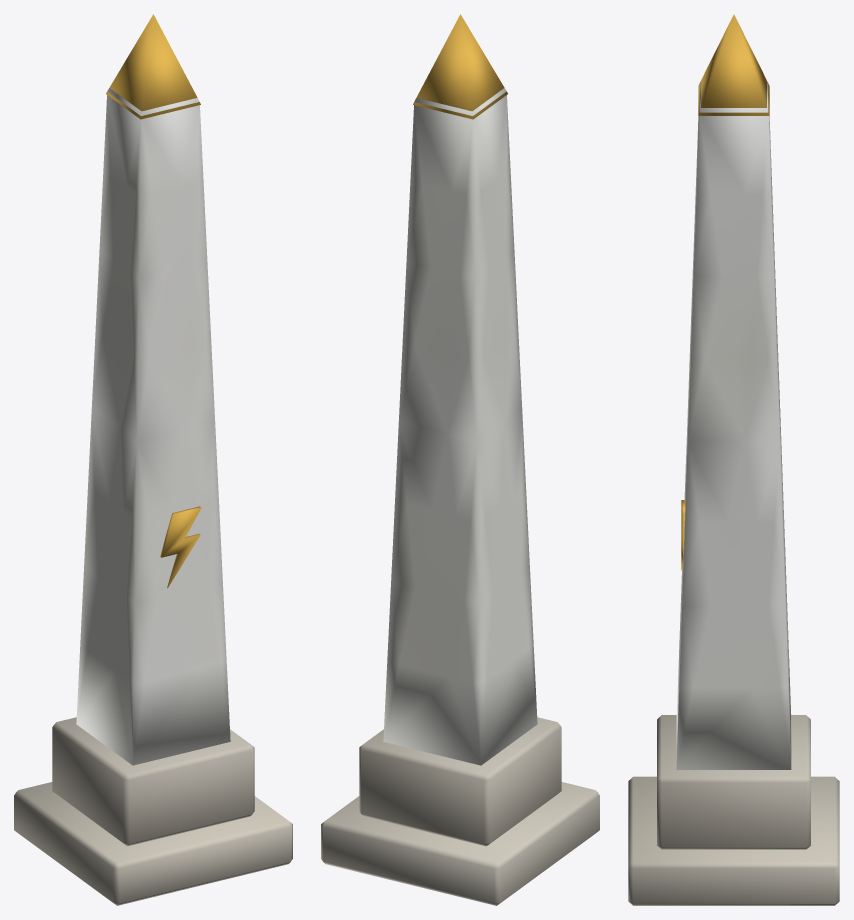
The model's file is decor_obelisk.glb.
3 renders of one model, left to right at view 1: azimuth 30°, elevation 25°; view 2: azimuth 150°, elevation 25°; view 3: azimuth 270°, elevation 25°, orthographic.
Parts seen in each view (by area): view 1: hall, step, marble, gold; view 2: hall, step, marble, gold; view 3: hall, step, marble, gold.
Boxes of the visible parts, x1,y1,x2,y2 form: hall: (76,88,230,765); step: (14,782,292,905); marble: (52,717,254,846); gold: (106,14,201,588); hall: (383,88,537,765); step: (321,782,599,905); marble: (359,717,561,846); gold: (413,14,507,119); hall: (676,81,791,769); step: (628,776,839,905); marble: (657,715,810,849); gold: (681,14,769,570).
Bounding box in the file's own units: 1.3 × 5.77 × 1.3.
